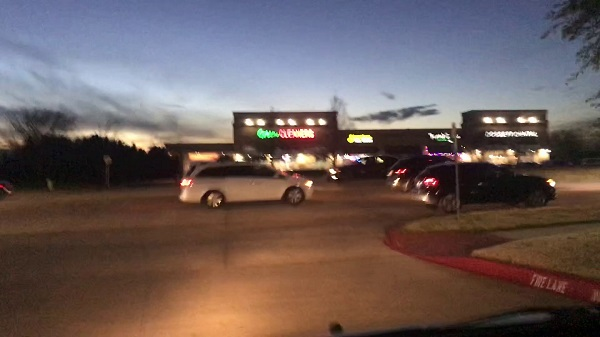car: (414, 163, 555, 210), (179, 161, 311, 207), (387, 156, 448, 189), (325, 155, 397, 179)
